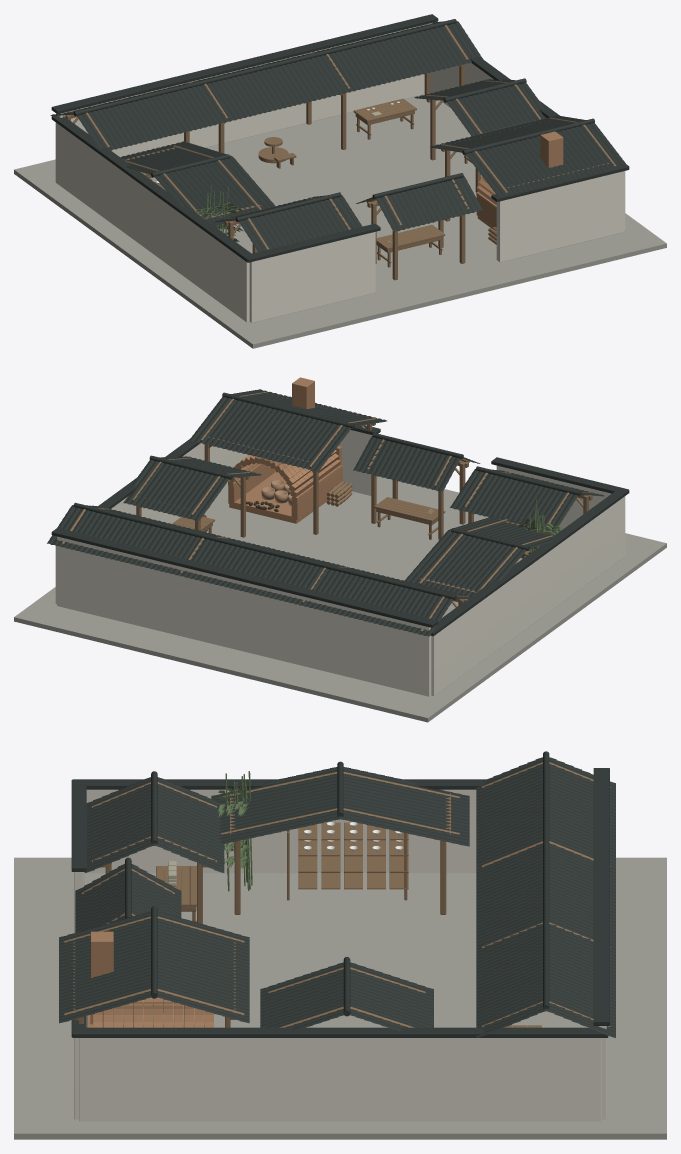
The model's file is workshop.glb.
3 renders of one model, top to bottom at view 1: azimuth 30°, elevation 25°; view 2: azimuth 150°, elevation 25°; view 3: azimuth 270°, elevation 25°, orthographic. The views are drawn at different scales.
Parts seen in each view (by area): view 1: workshop_grey_fired_roof_tiles, workshop_courtyard_stone, workshop_lime_plaster, workshop_weathered_wood, workshop_kiln_firebrick, workshop_bamboo_leaves; view 2: workshop_grey_fired_roof_tiles, workshop_lime_plaster, workshop_courtyard_stone, workshop_weathered_wood, workshop_kiln_firebrick, workshop_unglazed_stoneware, workshop_bamboo_leaves; view 3: workshop_grey_fired_roof_tiles, workshop_courtyard_stone, workshop_lime_plaster, workshop_weathered_wood, workshop_kiln_firebrick, workshop_bamboo_leaves.
Boxes of the visible parts, bbox=[...] form: workshop_grey_fired_roof_tiles: bbox=[50, 14, 629, 262]; workshop_courtyard_stone: bbox=[14, 94, 666, 348]; workshop_lime_plaster: bbox=[55, 22, 625, 322]; workshop_weathered_wood: bbox=[63, 24, 616, 280]; workshop_kiln_firebrick: bbox=[476, 131, 563, 228]; workshop_bamboo_leaves: bbox=[195, 185, 243, 242]; workshop_grey_fired_roof_tiles: bbox=[47, 389, 629, 636]; workshop_lime_plaster: bbox=[55, 430, 625, 696]; workshop_courtyard_stone: bbox=[14, 476, 666, 722]; workshop_weathered_wood: bbox=[61, 391, 592, 631]; workshop_kiln_firebrick: bbox=[228, 377, 342, 523]; workshop_unglazed_stoneware: bbox=[202, 480, 292, 532]; workshop_bamboo_leaves: bbox=[518, 499, 562, 556]; workshop_grey_fired_roof_tiles: bbox=[59, 751, 615, 1037]; workshop_courtyard_stone: bbox=[14, 857, 666, 1139]; workshop_lime_plaster: bbox=[74, 789, 606, 1121]; workshop_weathered_wood: bbox=[64, 762, 610, 1027]; workshop_kiln_firebrick: bbox=[87, 931, 213, 1027]; workshop_bamboo_leaves: bbox=[218, 771, 252, 891].
Size of the model in its own units: 20 by 5 by 20.
